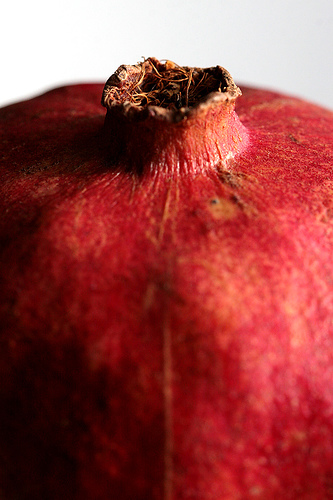pomogranate: (0, 51, 331, 498)
